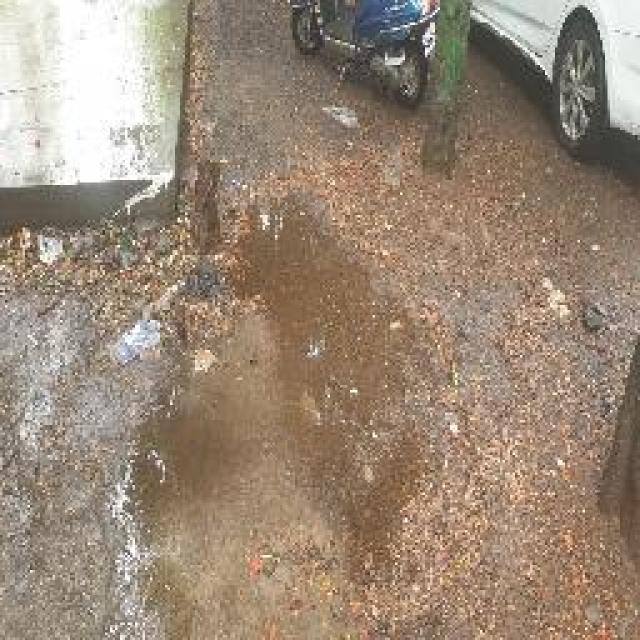stagnation: (114, 181, 435, 584)
